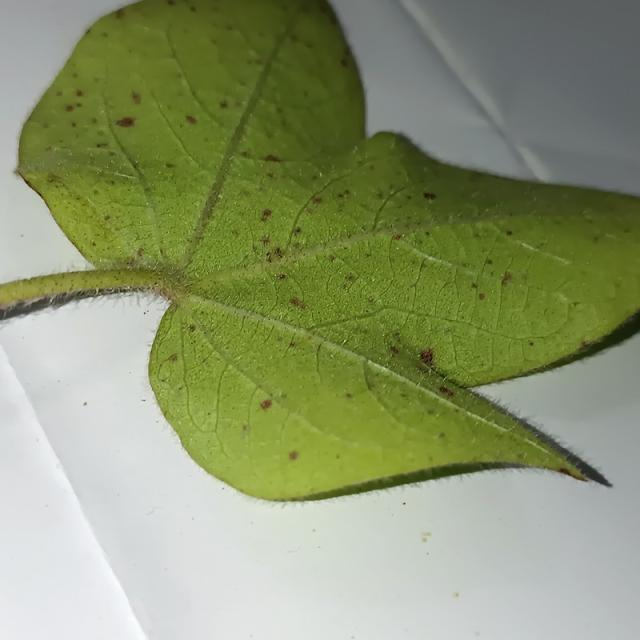Bacterial_Blight: (182, 110, 202, 126), (419, 348, 434, 364), (289, 297, 307, 310), (116, 117, 136, 128), (438, 386, 456, 398), (46, 173, 64, 185), (559, 467, 576, 479), (260, 209, 272, 222), (501, 272, 512, 286), (417, 363, 431, 374), (260, 399, 273, 410), (337, 190, 350, 200), (131, 92, 141, 104), (265, 154, 280, 162), (423, 192, 436, 201), (115, 8, 125, 19), (389, 345, 399, 355), (393, 331, 403, 341), (261, 236, 270, 247), (288, 451, 298, 460), (274, 247, 283, 257), (340, 58, 349, 68), (219, 100, 228, 109), (345, 274, 355, 282), (277, 273, 287, 281), (137, 247, 145, 257), (240, 150, 250, 158), (305, 207, 315, 215), (169, 354, 178, 362), (288, 340, 297, 348), (313, 197, 323, 204), (392, 234, 402, 241), (266, 252, 273, 262), (580, 341, 590, 348), (96, 142, 107, 148), (188, 324, 196, 332), (328, 254, 336, 262), (65, 105, 74, 112), (165, 162, 175, 168), (485, 258, 493, 265), (294, 226, 301, 234), (103, 214, 111, 221), (366, 296, 374, 303), (242, 424, 249, 432), (478, 293, 485, 300), (76, 90, 83, 97), (471, 282, 478, 289), (505, 230, 513, 236), (345, 393, 353, 399), (438, 432, 446, 438), (91, 240, 97, 247), (572, 301, 579, 307), (425, 230, 431, 236), (71, 122, 77, 128), (56, 91, 62, 97), (529, 341, 534, 346)
Cotton: (0, 0, 639, 500)
